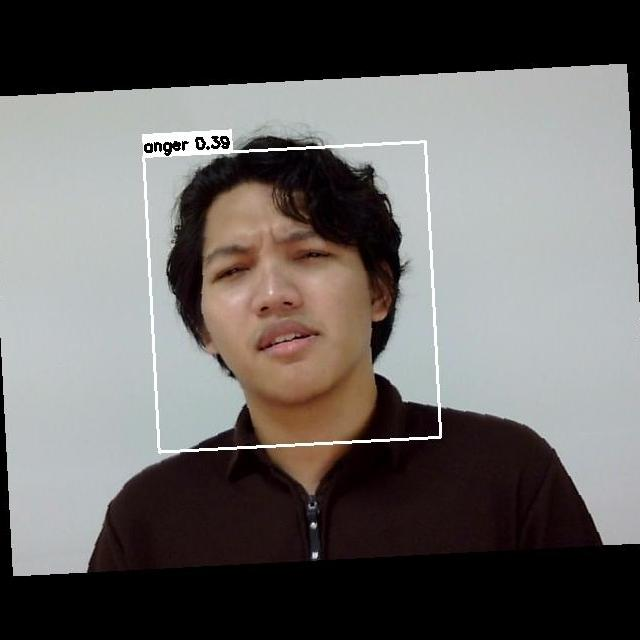Sad: (182, 213, 390, 396)
